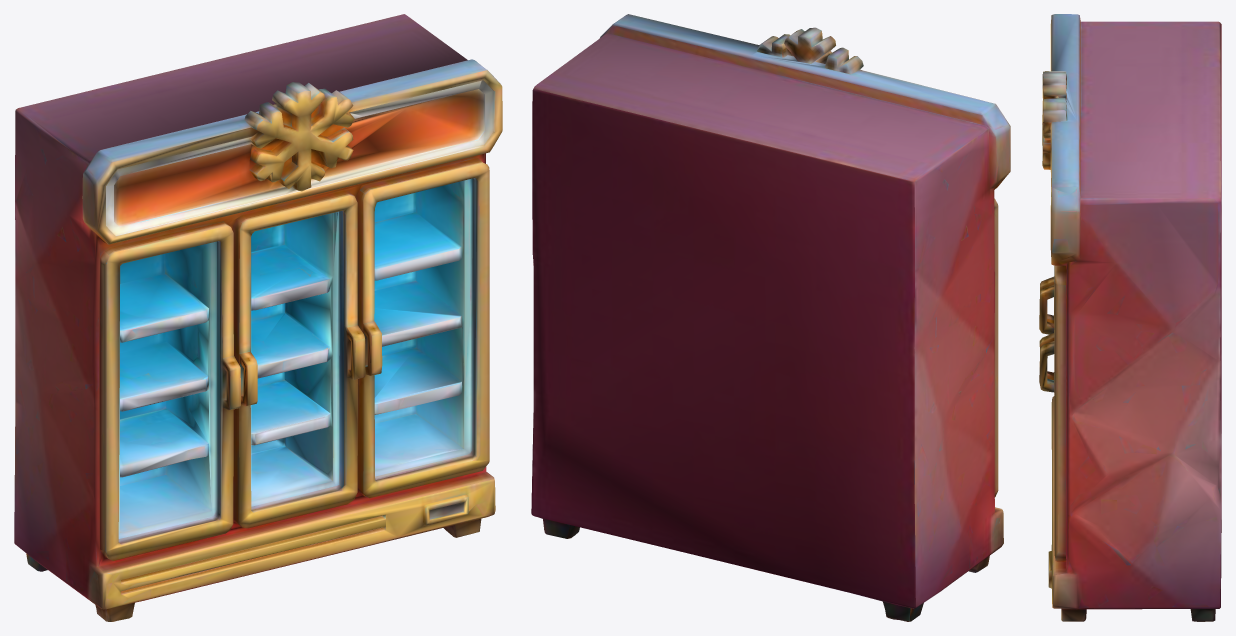
The model's file is bingui-3.glb.
3 renders of one model, left to right at view 1: azimuth 30°, elevation 25°; view 2: azimuth 150°, elevation 25°; view 3: azimuth 270°, elevation 25°, orthographic. The views are drawn at different scales.
Parts seen in each view (by area): view 1: node_0; view 2: node_0; view 3: node_0.
Part boxes in pixels (x1,y1,x2,y2): node_0: [14, 14, 502, 621]; node_0: [531, 14, 1010, 621]; node_0: [1039, 14, 1221, 621].
Size of the model in its own units: 0.7882 by 0.9158 by 0.3265.
1 material, 1 textured.
